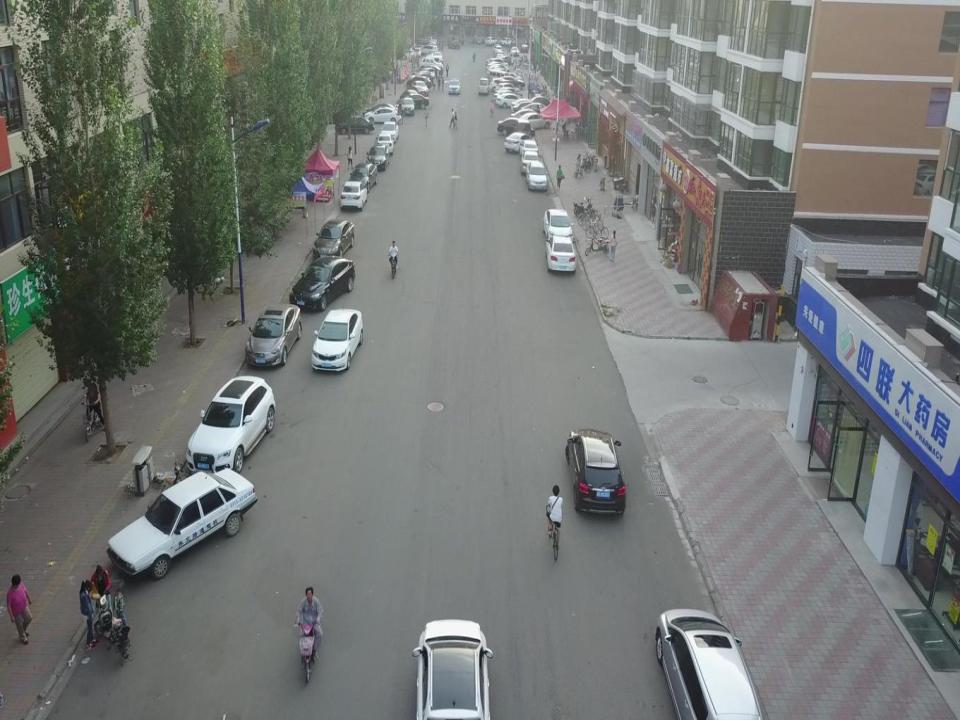car: (103, 468, 256, 580), (185, 377, 276, 477), (565, 429, 625, 516), (246, 302, 300, 370), (289, 257, 354, 313), (311, 310, 364, 372), (312, 220, 356, 263), (545, 236, 578, 276), (541, 208, 574, 247), (347, 163, 378, 193), (340, 182, 368, 212), (334, 116, 374, 134), (504, 132, 536, 154), (526, 162, 548, 192), (365, 107, 401, 125), (497, 117, 531, 136), (365, 145, 389, 171), (511, 100, 544, 118), (397, 94, 430, 109), (365, 105, 397, 120), (510, 109, 540, 125), (518, 114, 552, 128), (521, 104, 549, 120), (499, 76, 525, 92), (521, 151, 539, 174), (511, 99, 535, 116), (375, 133, 393, 155), (498, 94, 522, 110), (519, 140, 537, 161), (380, 122, 398, 142), (490, 77, 514, 92), (399, 90, 418, 108), (496, 87, 522, 100), (407, 77, 432, 90), (494, 92, 520, 103), (497, 83, 519, 96), (400, 98, 415, 115), (532, 96, 551, 109), (408, 86, 427, 98), (412, 80, 428, 93), (448, 78, 460, 94), (500, 36, 512, 47), (448, 40, 460, 49), (485, 36, 497, 45), (521, 44, 529, 54), (510, 48, 519, 56)
van: (479, 77, 489, 95)
